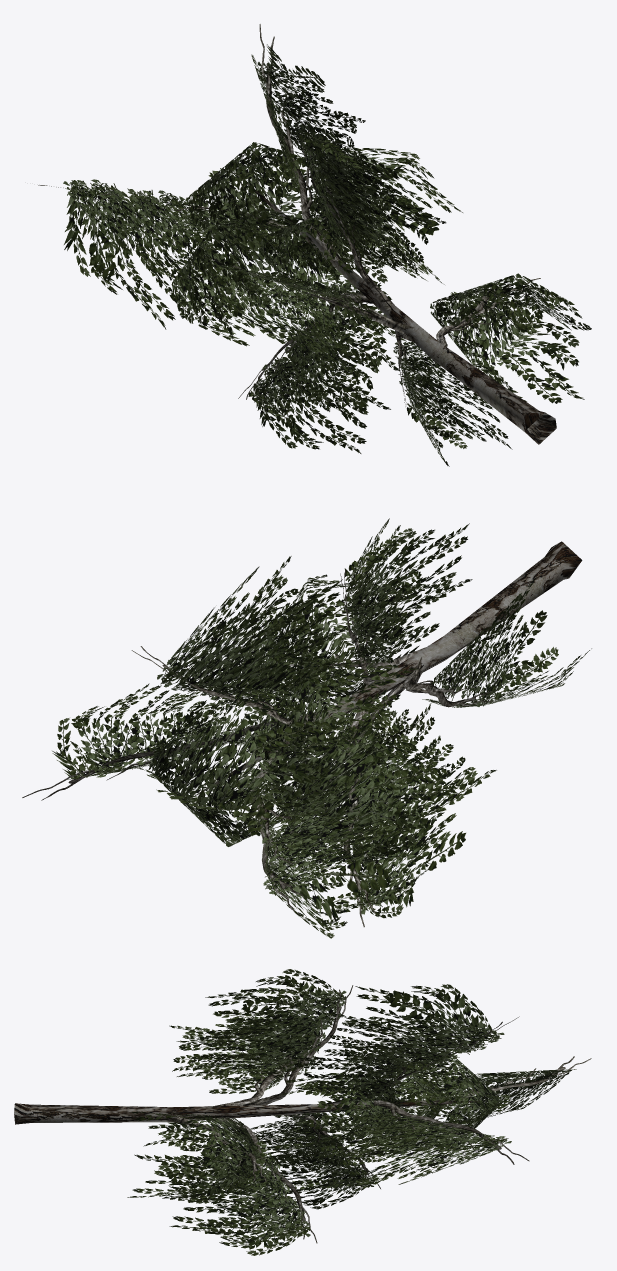
The model's file is MEP_Birch_01_a.fbx.
3 views of the same model, one above another, from view 1: azimuth 30°, elevation 25°; view 2: azimuth 150°, elevation 25°; view 3: azimuth 270°, elevation 25° (orthographic). The views are drawn at different scales.
Visible parts, largest first — view 1: MEP_Birch_01, MEP_Birch_Bark_01; view 2: MEP_Birch_01, MEP_Birch_Bark_01; view 3: MEP_Birch_01, MEP_Birch_Bark_01.
Part boxes in pixels (x1=…): MEP_Birch_01: x1=38, y1=24, x2=591, y2=466; MEP_Birch_Bark_01: x1=232, y1=170, x2=556, y2=444; MEP_Birch_01: x1=22, y1=518, x2=591, y2=938; MEP_Birch_Bark_01: x1=187, y1=541, x2=582, y2=800; MEP_Birch_01: x1=127, y1=969, x2=591, y2=1255; MEP_Birch_Bark_01: x1=14, y1=1100, x2=502, y2=1124.
Size of the model in its own units: 6.09 by 5.84 by 12.25.
